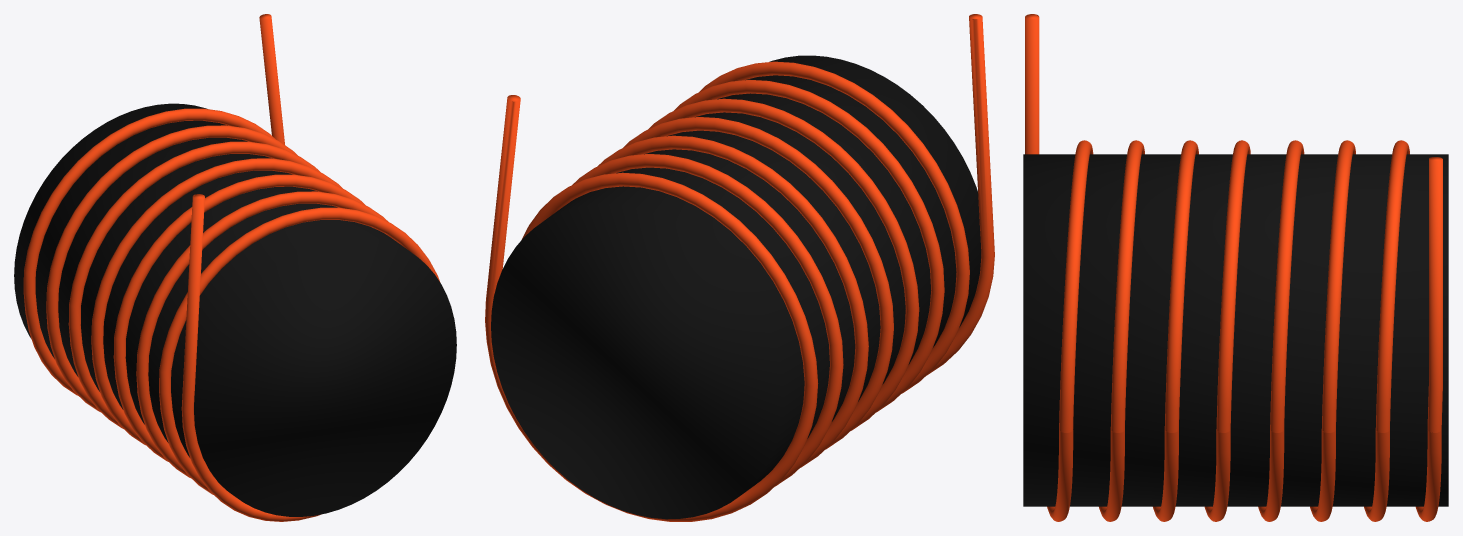
File: КатушкаИндуктивности 1.obj
The picture shows the model from 3 angles, left to right: view 1: azimuth 30°, elevation 25°; view 2: azimuth 150°, elevation 25°; view 3: azimuth 270°, elevation 25°; orthographic projection. The views are drawn at different scales.
Visible parts, largest first — view 1: Cylinder, Torus.002; view 2: Cylinder, Torus.002; view 3: Cylinder, Torus.002.
Part boxes in pixels (left/top/right/bottom): Cylinder: left=14, top=103, right=456, bottom=516; Torus.002: left=23, top=14, right=440, bottom=521; Cylinder: left=491, top=55, right=981, bottom=519; Torus.002: left=485, top=14, right=994, bottom=521; Cylinder: left=1023, top=154, right=1448, bottom=506; Torus.002: left=1025, top=14, right=1442, bottom=521.
Bounding box in the file's own units: 3.19 × 3.86 × 3.57.
